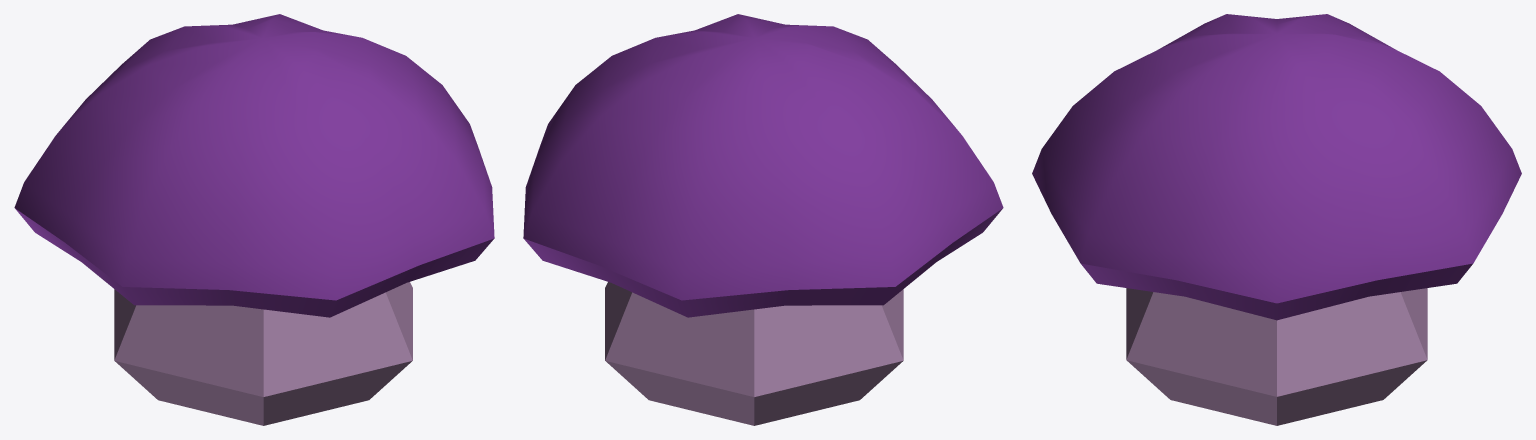
The model's file is purplemushroom1.fbx.
The picture shows the model from 3 angles, left to right: view 1: azimuth 30°, elevation 25°; view 2: azimuth 150°, elevation 25°; view 3: azimuth 270°, elevation 25°; orthographic projection.
Parts seen in each view (by area): view 1: purplemushroom5; view 2: purplemushroom5; view 3: purplemushroom5.
Boxes of the visible parts, x1=… form: purplemushroom5: x1=14, y1=14, x2=494, y2=425; purplemushroom5: x1=523, y1=14, x2=1003, y2=425; purplemushroom5: x1=1032, y1=14, x2=1521, y2=425.
Bounding box in the file's own units: 0.1291 × 0.1017 × 0.1314.
Materials: 1 (1 with a texture image).
